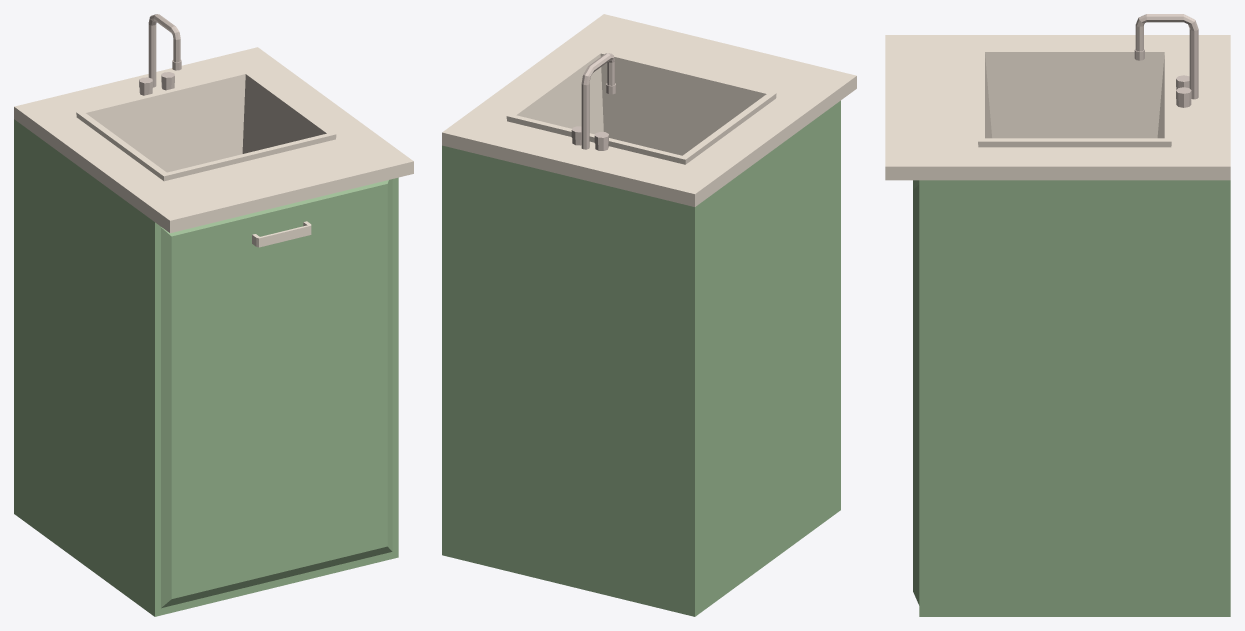
Rendered from kitchen-sink.glb.
3 renders of one model, left to right at view 1: azimuth 30°, elevation 25°; view 2: azimuth 150°, elevation 25°; view 3: azimuth 270°, elevation 25°, orthographic. The views are drawn at different scales.
Visible parts, largest first — view 1: Kitchen_Sink; view 2: Kitchen_Sink; view 3: Kitchen_Sink.
Boxes of the visible parts, x1,y1,x2,y2 form: Kitchen_Sink: (14,14,413,616); Kitchen_Sink: (442,14,856,616); Kitchen_Sink: (885,14,1230,616).
Bounding box in the file's own units: 1.01 × 1.92 × 1.12.
